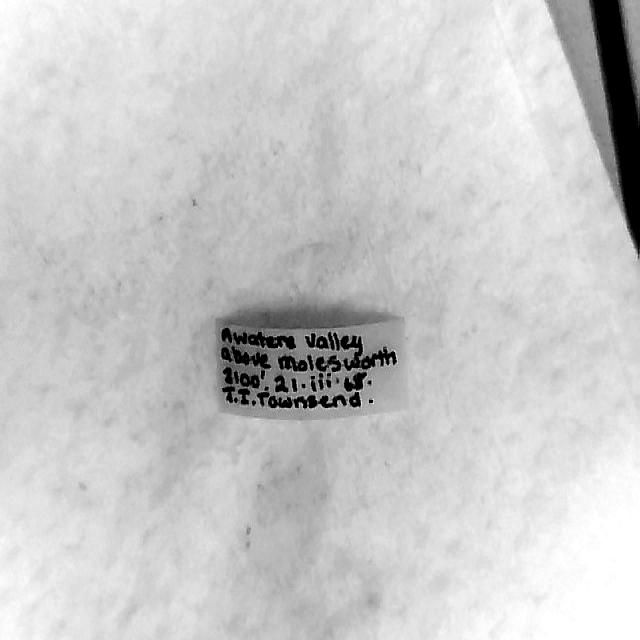hand_label: (218, 319, 406, 418)
